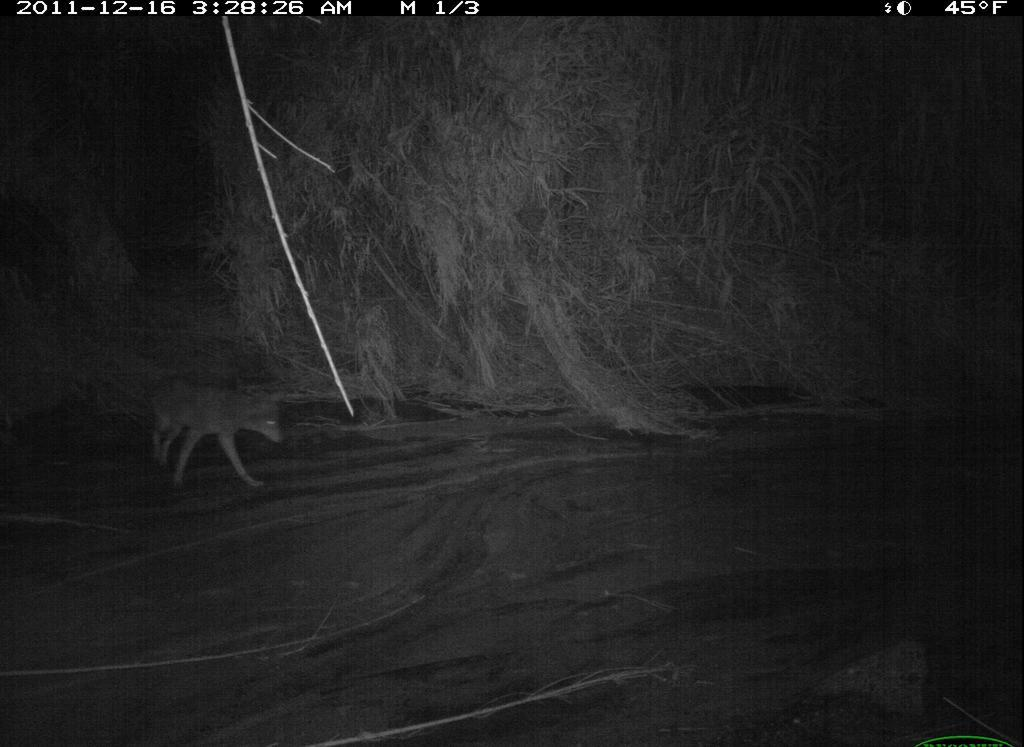coyote: (140, 350, 303, 500)
